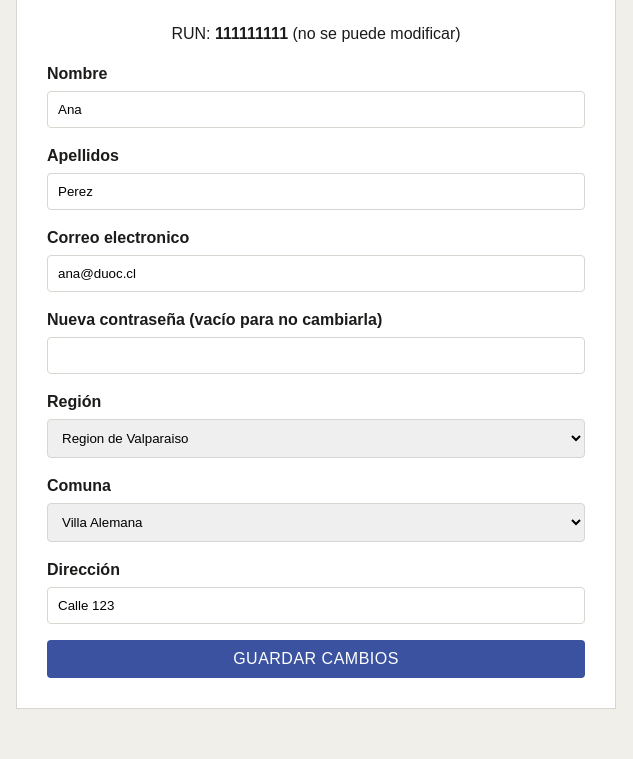
Perfil › muestra el error devuelto por actualizarPerfil
(page scrolled)
Click the button "Guardar cambios" at x=316, y=659, box [47,640,585,678]
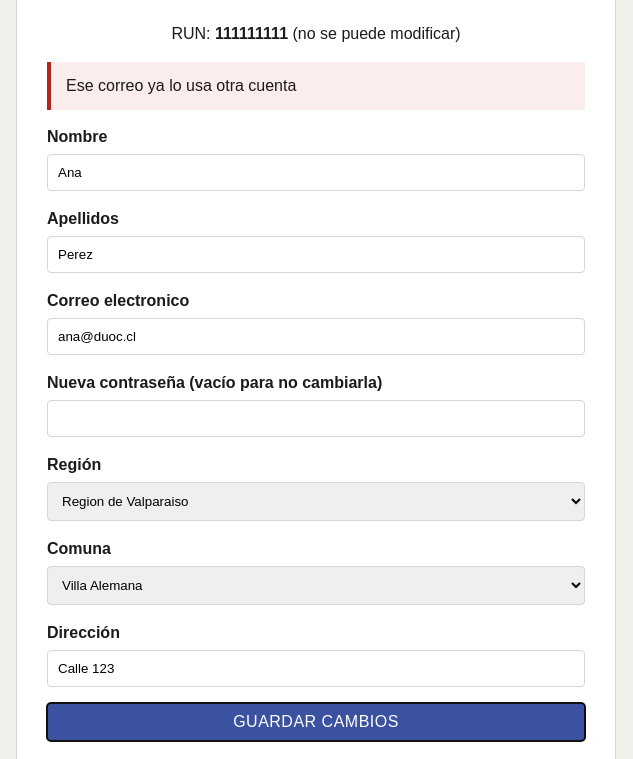
Result: the text "Ese correo ya lo usa otra cuenta" is shown at [47,62,585,110]
